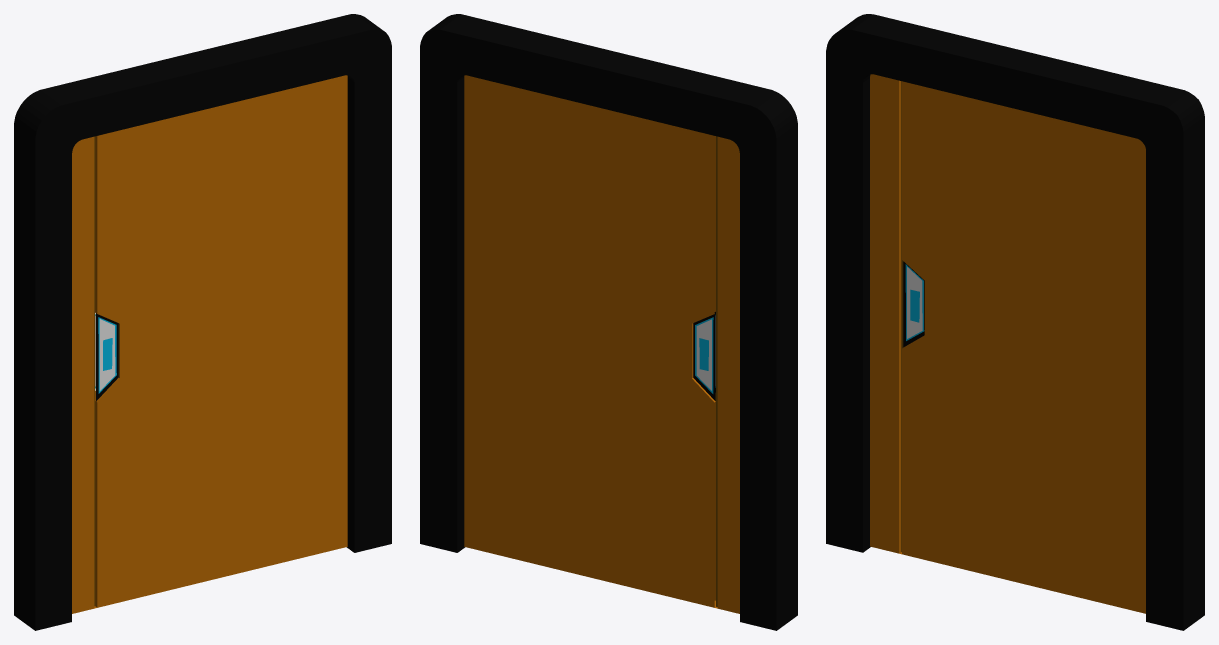
The model's file is doorServer.fbx.
3 renders of one model, left to right at view 1: azimuth 30°, elevation 25°; view 2: azimuth 150°, elevation 25°; view 3: azimuth 330°, elevation 25°, orthographic.
Size of the model in its own units: 1936 by 2693 by 200.
